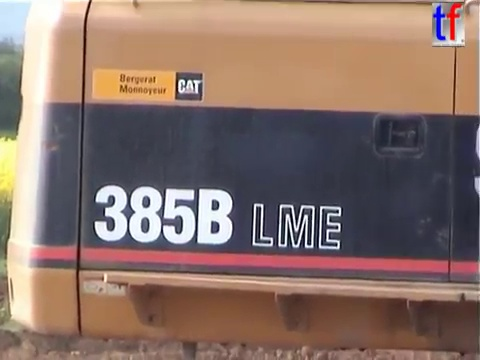excavator: (2, 1, 480, 355)
